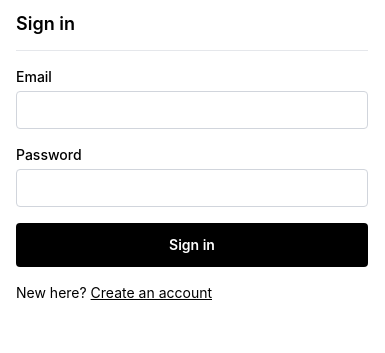
Scenario: SignIn › shows a message when the password is wrong
Type "alice@example.com" into the field labelled "Email".
click(192, 110); type("alice@example.com")  # box [16,91,368,129]
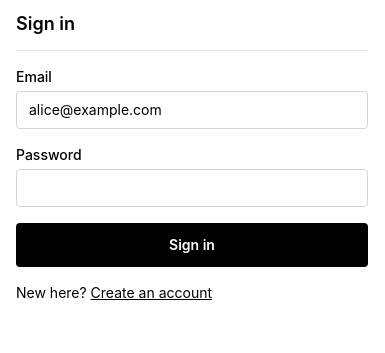
Type "wrongpass" into the password field labelled "Password".
click(192, 188); type("wrongpass")  # box [16,169,368,207]
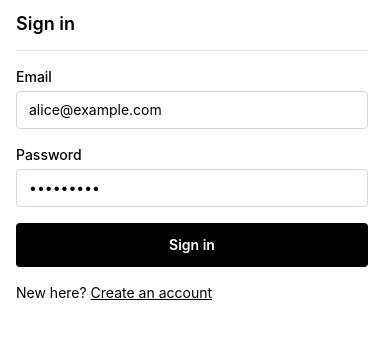
Click the button "Sign in".
click(192, 245)  # box [16,223,368,267]
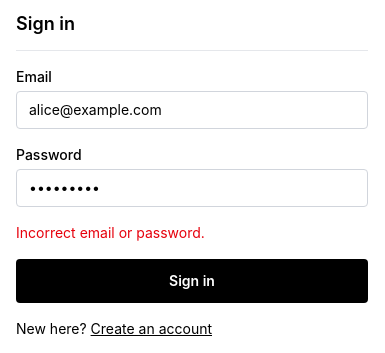
Now the message reads "Incorrect email or password.", box [16,224,205,241]
